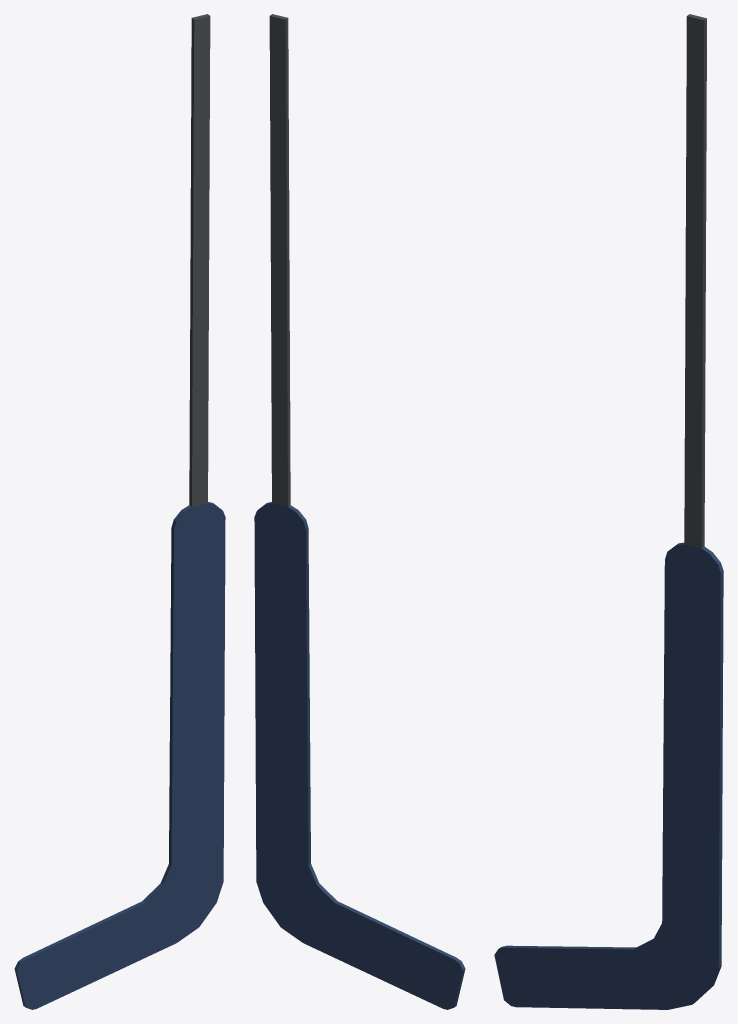
File: Ice_hockey_blocker_blue.fbx
3 views of the same model, side by side, from view 1: azimuth 30°, elevation 25°; view 2: azimuth 150°, elevation 25°; view 3: azimuth 330°, elevation 25° (orthographic). The views are drawn at different scales.
Visible parts, largest first — view 1: Ice_hockey_blocker_blue; view 2: Ice_hockey_blocker_blue; view 3: Ice_hockey_blocker_blue.
Part boxes in pixels (x1,y1,x2,y2): Ice_hockey_blocker_blue: (14,14,225,1009); Ice_hockey_blocker_blue: (254,14,465,1009); Ice_hockey_blocker_blue: (494,14,723,1009).
Size of the model in its own units: 45.15 by 197 by 0.979.
